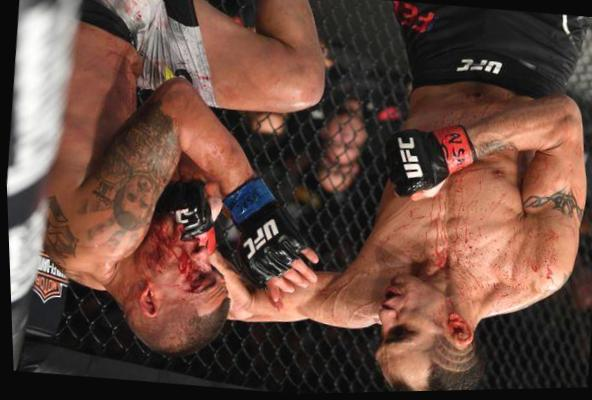Fire: (412, 160, 576, 351), (144, 215, 214, 294)
